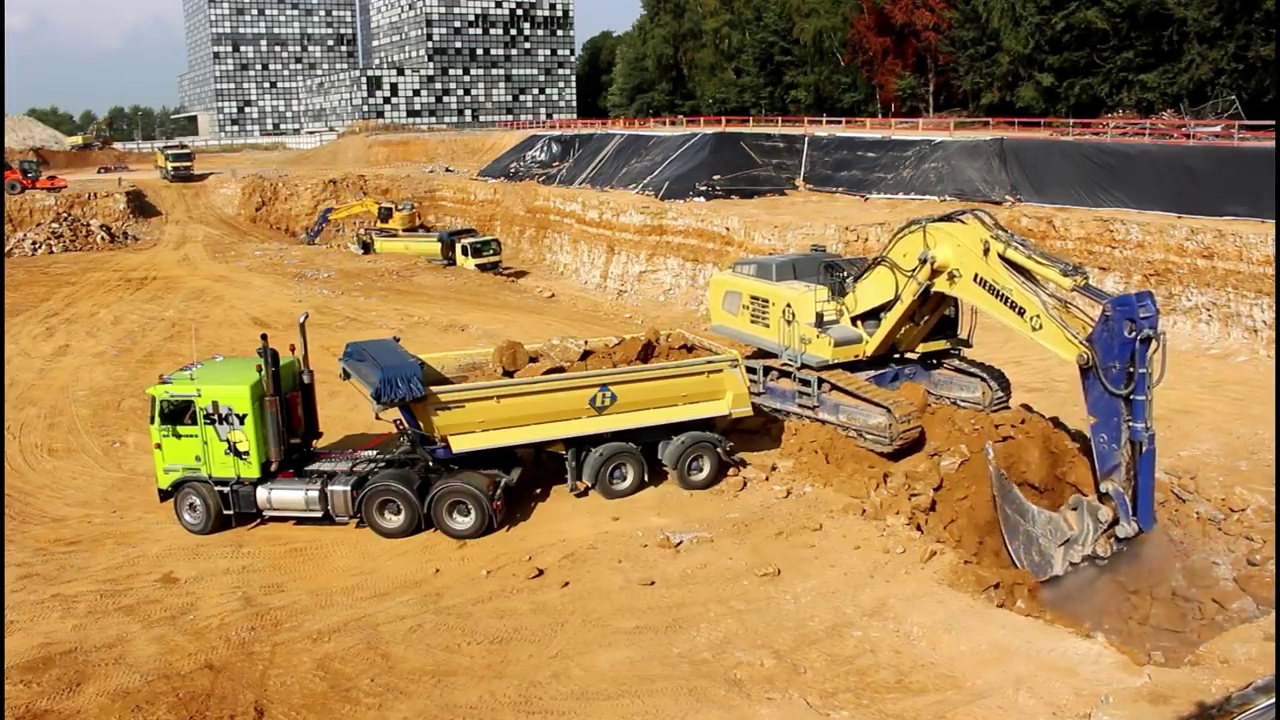compactor: (2, 159, 71, 198)
excavator: (676, 206, 1168, 592), (291, 198, 445, 261), (64, 117, 118, 157)
truck: (139, 309, 763, 544), (367, 223, 511, 295), (153, 136, 204, 186)
